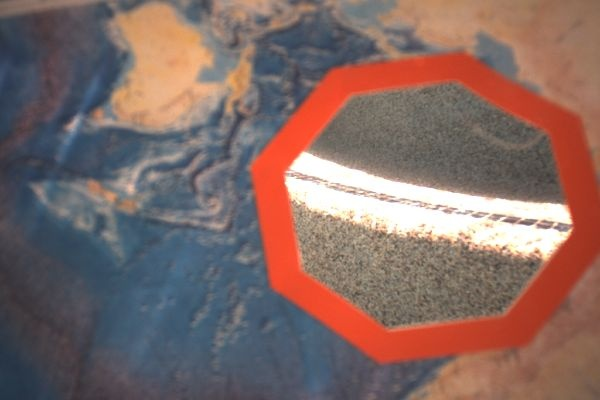torpille: (0, 0, 600, 400)
torpille_target: (252, 54, 600, 362)
